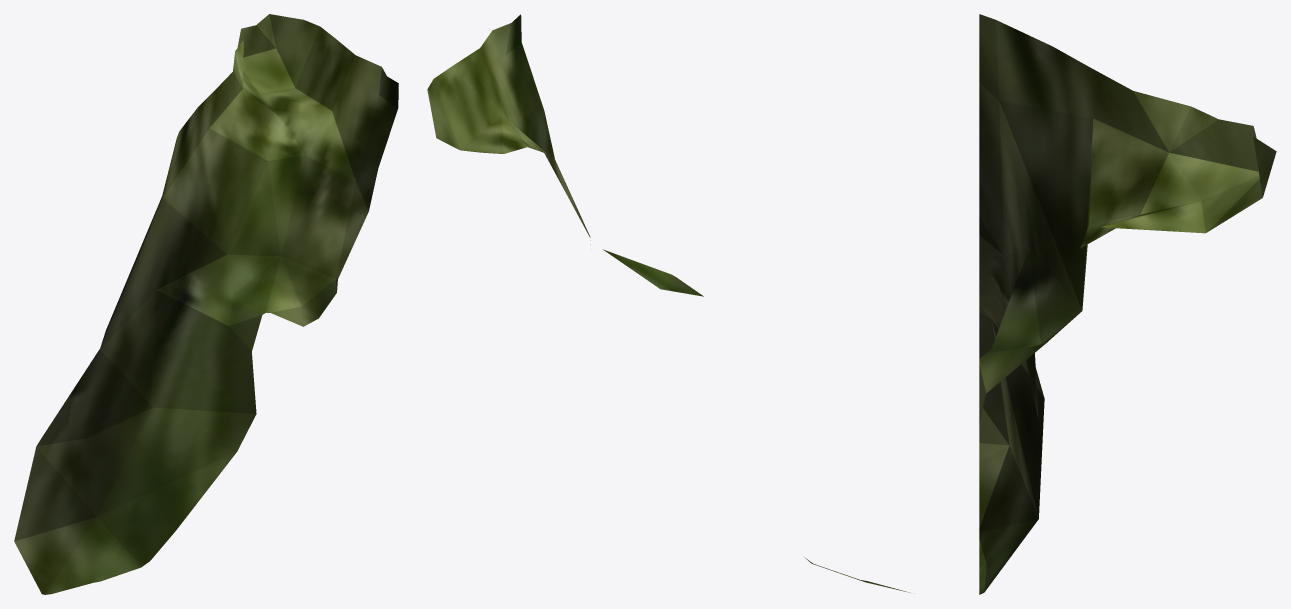
The picture shows the model from 3 angles, left to right: view 1: azimuth 30°, elevation 25°; view 2: azimuth 150°, elevation 25°; view 3: azimuth 270°, elevation 25°; orthographic projection. The views are drawn at different scales.
Bounding box in the file's own units: 0.906 × 0.9645 × 0.4242.
Materials: 1 (1 with a texture image).
